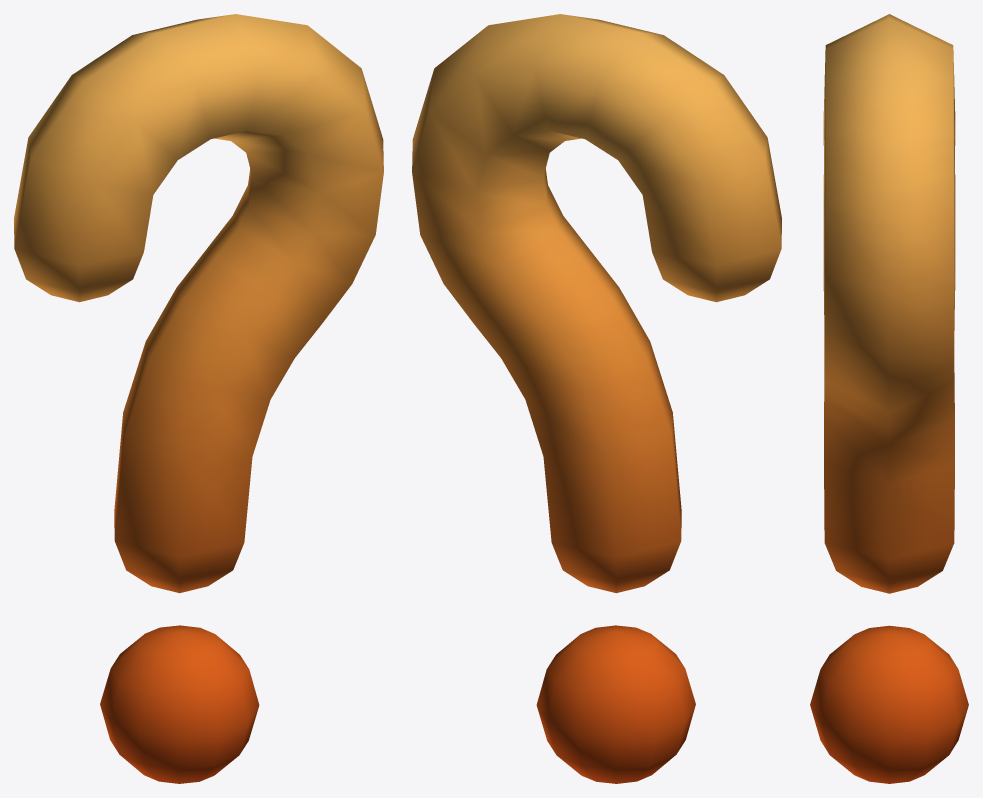
File: QuestionMark.fbx
The picture shows the model from 3 angles, left to right: view 1: azimuth 30°, elevation 25°; view 2: azimuth 150°, elevation 25°; view 3: azimuth 270°, elevation 25°; orthographic projection.
Visible parts, largest first — view 1: QuestionMark; view 2: QuestionMark; view 3: QuestionMark.
Boxes of the visible parts, box(x1,y1,x2,y2) form: QuestionMark: box(14, 14, 383, 783); QuestionMark: box(412, 14, 781, 783); QuestionMark: box(810, 14, 968, 783).
Bounding box in the file's own units: 73.08 × 142 × 27.36.
